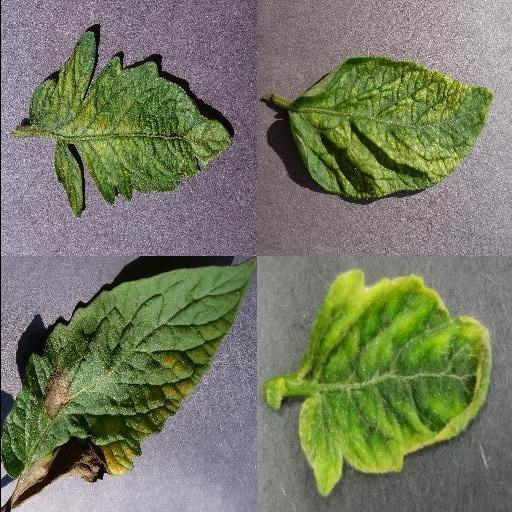Late Blight: (0, 256, 256, 512)
Mosaic Virus: (26, 30, 234, 220)
Spider Mites: (286, 56, 492, 202)
Yellow Leaf Curl Virus: (296, 268, 492, 498)
